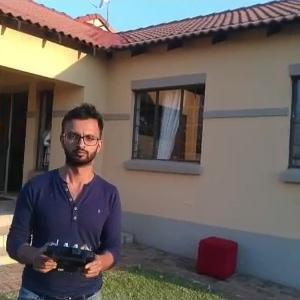follow: (4, 100, 126, 297)
